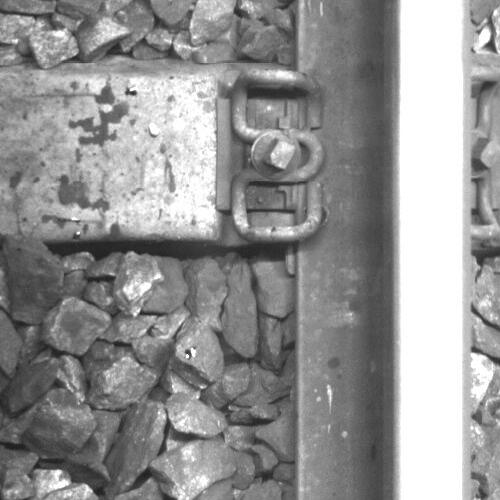rail: (394, 1, 470, 500)
tie_concr: (1, 69, 294, 239)
vossloh: (216, 67, 325, 244)
